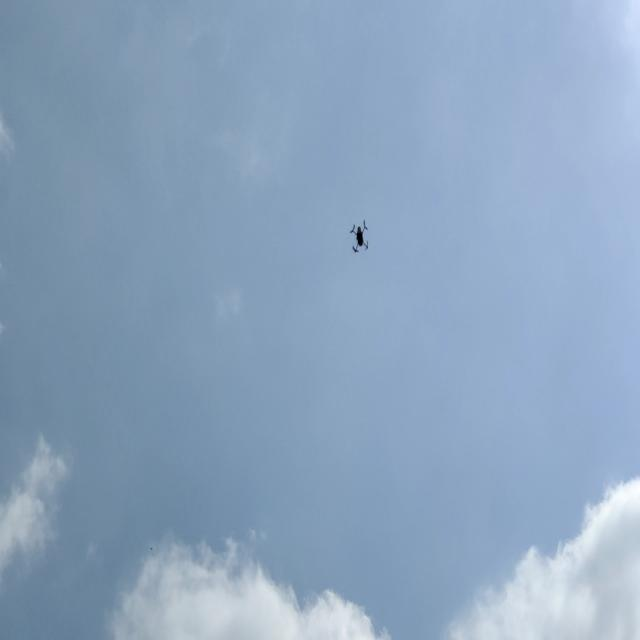drone: (346, 214, 375, 258)
